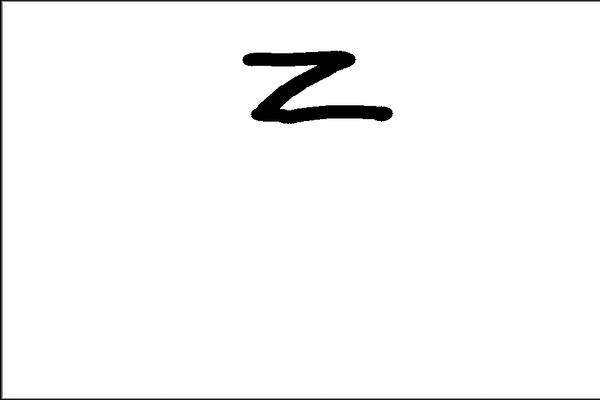Z: (237, 37, 397, 130)
